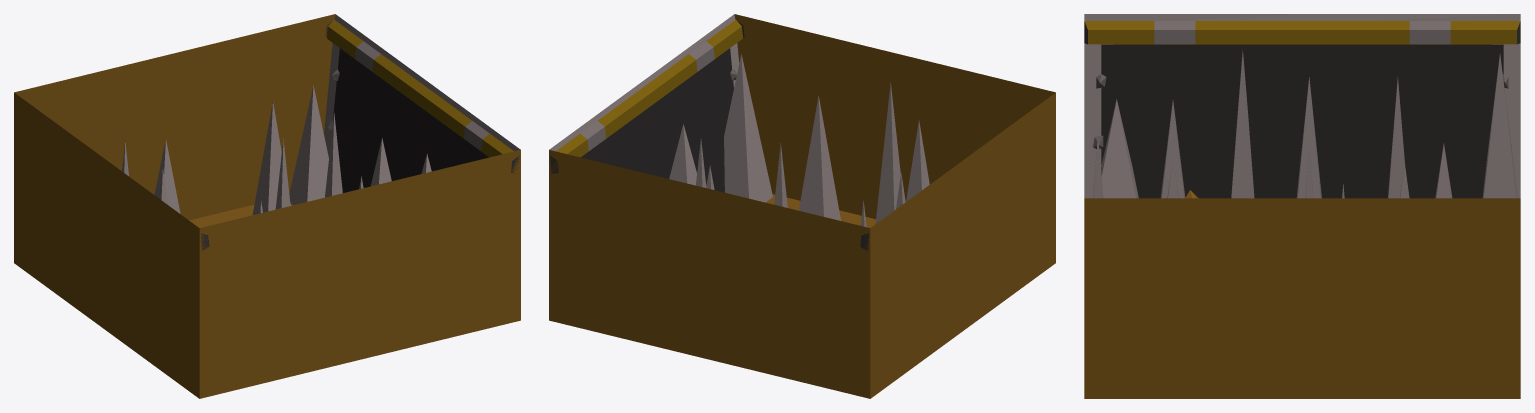
Rendered from obj_trap_1_0.obj.
The picture shows the model from 3 angles, left to right: view 1: azimuth 30°, elevation 25°; view 2: azimuth 150°, elevation 25°; view 3: azimuth 270°, elevation 25°; orthographic projection. The views are drawn at different scales.
Size of the model in its own units: 2 by 1.02 by 2.
